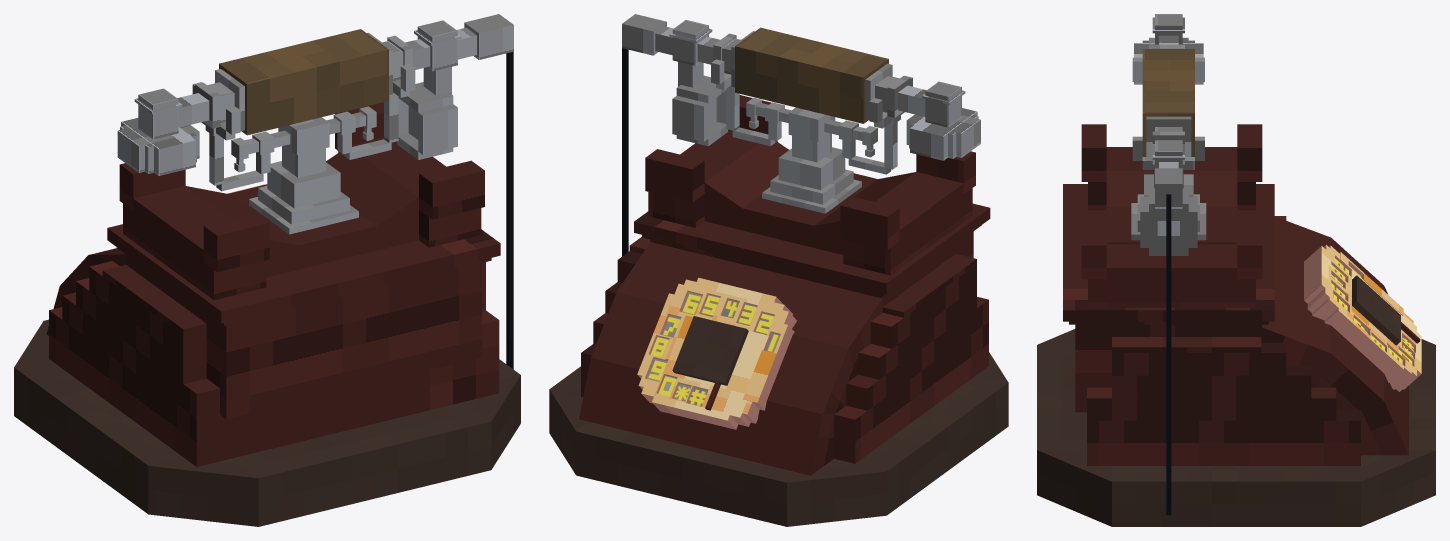
File: rotary_phone.gltf
3 renders of one model, left to right at view 1: azimuth 30°, elevation 25°; view 2: azimuth 150°, elevation 25°; view 3: azimuth 270°, elevation 25°, orthographic. The views are drawn at different scales.
Parts seen in each view (by area): view 1: int_cube (×49); view 2: int_cube (×56); view 3: int_cube (×39).
Part boxes in pixels (bbox=[...]): int_cube (×49): bbox=[14, 14, 520, 526]; int_cube (×56): bbox=[549, 14, 1008, 526]; int_cube (×39): bbox=[1037, 49, 1435, 526].
Size of the model in its own units: 1.06 by 1 by 1.
7 materials, 7 textured.
